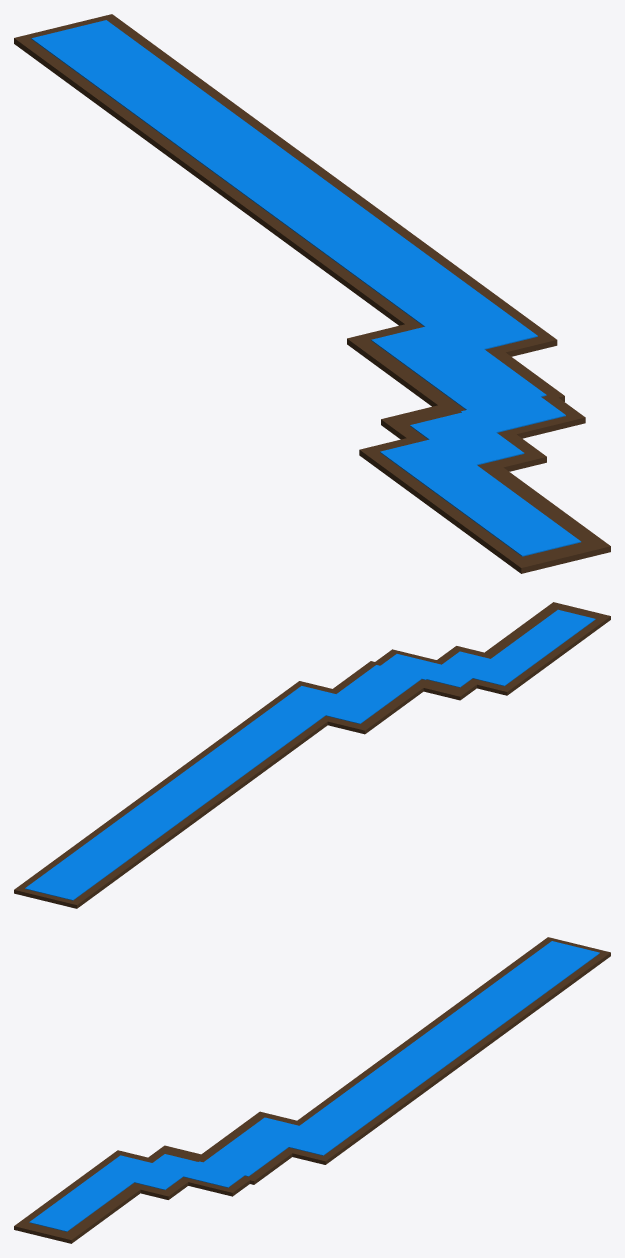
The model's file is river_run_adv.gltf.
The picture shows the model from 3 angles, top to bottom: view 1: azimuth 30°, elevation 25°; view 2: azimuth 150°, elevation 25°; view 3: azimuth 330°, elevation 25°; orthographic projection. The views are drawn at different scales.
Visible parts, largest first — view 1: Total2; view 2: Total2; view 3: Total2.
Part boxes in pixels (x1,y1,x2,y2): Total2: (14, 14, 610, 573); Total2: (14, 602, 610, 908); Total2: (14, 937, 610, 1243).
Size of the model in its own units: 51.28 by 1.28 by 228.
